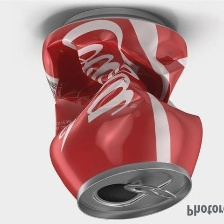can: (36, 4, 207, 220)
